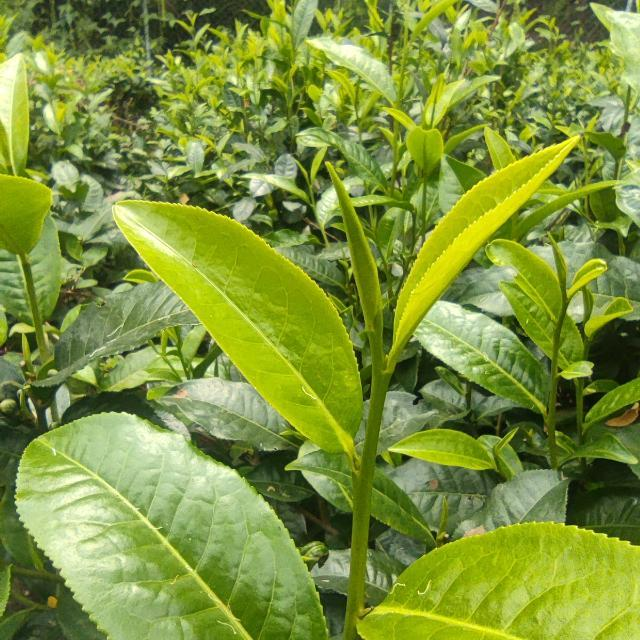Stem: (369, 372, 393, 416), (22, 263, 33, 283), (559, 305, 568, 319), (402, 47, 410, 62), (423, 176, 428, 189), (310, 189, 314, 199)
